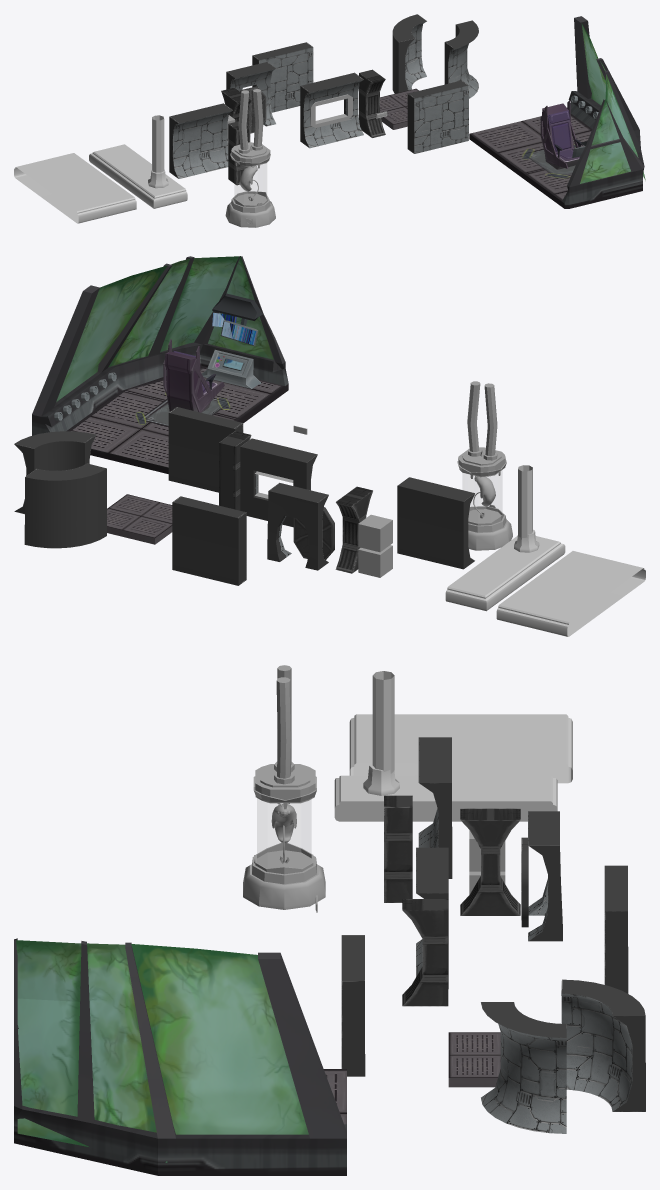
Rendered from mapp fix för fan.fbx.
3 renders of one model, top to bottom at view 1: azimuth 30°, elevation 25°; view 2: azimuth 150°, elevation 25°; view 3: azimuth 270°, elevation 25°, orthographic. The views are drawn at different scales.
Parts seen in each view (by area): view 1: Fullroom1, platform, kontener, wall, wall1, wall_windowShape, polySurface5, wall3, hörn2, hörn, pilar, door_entrens (+5 smaller); view 2: Fullroom1, platform, hörn2, wall, wall3, kontener, polySurface5, wall1, wall_windowShape, door_entrens, hörn, floor (+6 smaller); view 3: Fullroom1, platform, kontener, hörn2, hörn, polySurface5, pilar1, pilar, wall1, door_entrens, wall, pilar2 (+5 smaller).
Part boxes in pixels (bbox=[...]): Fullroom1: bbox=[469, 16, 645, 208]; platform: bbox=[14, 153, 136, 223]; kontener: bbox=[225, 89, 275, 227]; wall: bbox=[169, 103, 232, 178]; wall1: bbox=[407, 80, 468, 153]; wall_windowShape: bbox=[300, 72, 363, 148]; polySurface5: bbox=[89, 144, 187, 208]; wall3: bbox=[252, 42, 313, 112]; hörn2: bbox=[392, 14, 426, 93]; hörn: bbox=[444, 20, 478, 98]; pilar: bbox=[359, 69, 385, 137]; door_entrens: bbox=[226, 62, 275, 126]; Fullroom1: bbox=[32, 256, 288, 473]; platform: bbox=[496, 551, 645, 636]; hörn2: bbox=[24, 463, 106, 548]; wall: bbox=[397, 477, 474, 569]; wall3: bbox=[172, 496, 246, 585]; kontener: bbox=[457, 381, 512, 550]; polySurface5: bbox=[445, 536, 565, 611]; wall1: bbox=[168, 407, 243, 492]; wall_windowShape: bbox=[240, 438, 317, 527]; door_entrens: bbox=[267, 482, 328, 570]; hörn: bbox=[14, 431, 96, 514]; floor: bbox=[107, 494, 172, 544]; Fullroom1: bbox=[14, 938, 346, 1175]; platform: bbox=[349, 714, 572, 783]; kontener: bbox=[243, 665, 325, 909]; hörn2: bbox=[561, 979, 645, 1111]; hörn: bbox=[481, 1002, 566, 1133]; polySurface5: bbox=[334, 775, 557, 821]; pilar1: bbox=[460, 808, 520, 915]; pilar: bbox=[402, 899, 448, 1006]; wall1: bbox=[341, 935, 365, 1076]; door_entrens: bbox=[528, 811, 562, 941]; wall: bbox=[418, 737, 452, 878]; pilar2: bbox=[384, 795, 412, 902].
Size of the model in its own units: 27.9 by 6.9 by 17.49.
